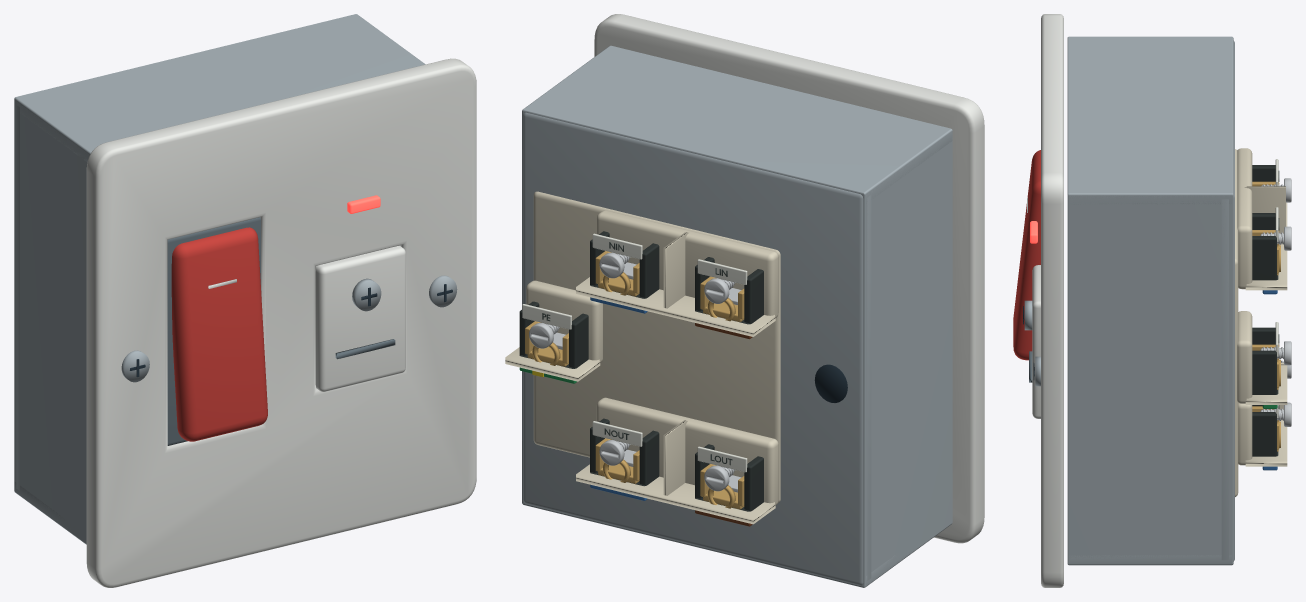
The model's file is fcu_default.glb.
The picture shows the model from 3 angles, left to right: view 1: azimuth 30°, elevation 25°; view 2: azimuth 150°, elevation 25°; view 3: azimuth 270°, elevation 25°; orthographic projection. The views are drawn at different scales.
Visible parts, largest first — view 1: part:cover, part:body · Original 2a8198d3, motion:rocker, part:fuse, part:actuator, part:cover · Original 2a8198d3; view 2: part:body · Original 2a8198d3, part:terminals · Original 5a609f27, part:cover, detail:terminal-clamp:NOUT · Detail moulded engineering poly, detail:terminal-clamp:NIN · Detail moulded engineering polym, detail:terminal-clamp:PE · Detail moulded engineering polyme, detail:terminal-clamp:LIN · Detail moulded engineering polym, detail:terminal-clamp:LOUT · Detail moulded engineering poly, part:body · Original a463fd81, detail:terminal-clamp:LIN · Detail machined brass, detail:terminal-clamp:NOUT · Detail machined brass, detail:terminal-clamp:NIN · Detail machined brass (+12 smaller); view 3: part:body · Original 2a8198d3, part:cover, part:terminals · Original 5a609f27, motion:rocker, part:fuse, detail:terminal-clamp:PE · Detail moulded engineering polyme, detail:terminal-clamp:NIN · Detail moulded engineering polym, detail:terminal-clamp:NOUT · Detail moulded engineering poly, detail:terminal-clamp:LIN · Detail moulded engineering polym.
Part boxes in pixels (x1,y1,x2,y2): part:cover: (86, 58, 476, 587); part:body · Original 2a8198d3: (14, 14, 425, 544); motion:rocker: (171, 227, 267, 441); part:fuse: (315, 245, 405, 391); part:actuator: (167, 217, 260, 445); part:cover · Original 2a8198d3: (121, 275, 457, 382); part:body · Original 2a8198d3: (522, 45, 952, 587); part:terminals · Original 5a609f27: (505, 191, 780, 524); part:cover: (594, 14, 984, 543); detail:terminal-clamp:NOUT · Detail moulded engineering poly: (590, 418, 659, 486); detail:terminal-clamp:NIN · Detail moulded engineering polym: (590, 231, 659, 298); detail:terminal-clamp:PE · Detail moulded engineering polyme: (519, 301, 588, 368); detail:terminal-clamp:LIN · Detail moulded engineering polym: (695, 257, 763, 324); detail:terminal-clamp:LOUT · Detail moulded engineering poly: (695, 444, 763, 511); part:body · Original a463fd81: (814, 364, 847, 402); detail:terminal-clamp:LIN · Detail machined brass: (700, 276, 744, 321); detail:terminal-clamp:NOUT · Detail machined brass: (595, 438, 639, 483); detail:terminal-clamp:NIN · Detail machined brass: (595, 251, 639, 296); part:body · Original 2a8198d3: (1067, 36, 1234, 565); part:cover: (1041, 14, 1063, 587); part:terminals · Original 5a609f27: (1235, 148, 1287, 496); motion:rocker: (1013, 150, 1040, 360); part:fuse: (1024, 265, 1040, 418); detail:terminal-clamp:PE · Detail moulded engineering polyme: (1252, 327, 1278, 394); detail:terminal-clamp:NIN · Detail moulded engineering polym: (1252, 213, 1278, 280); detail:terminal-clamp:NOUT · Detail moulded engineering poly: (1252, 405, 1278, 456); detail:terminal-clamp:LIN · Detail moulded engineering polym: (1252, 165, 1275, 181).
Bounding box in the file's own units: 0.8918 × 0.9813 × 0.599.
